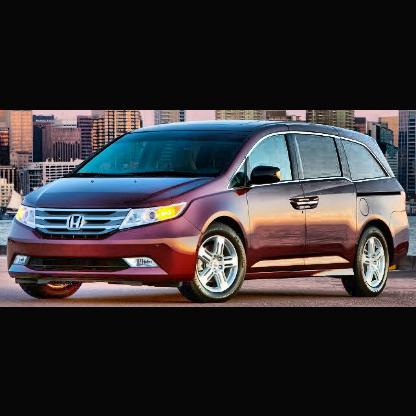Honda Odyssey Minivan 2012: (6, 118, 414, 303)
